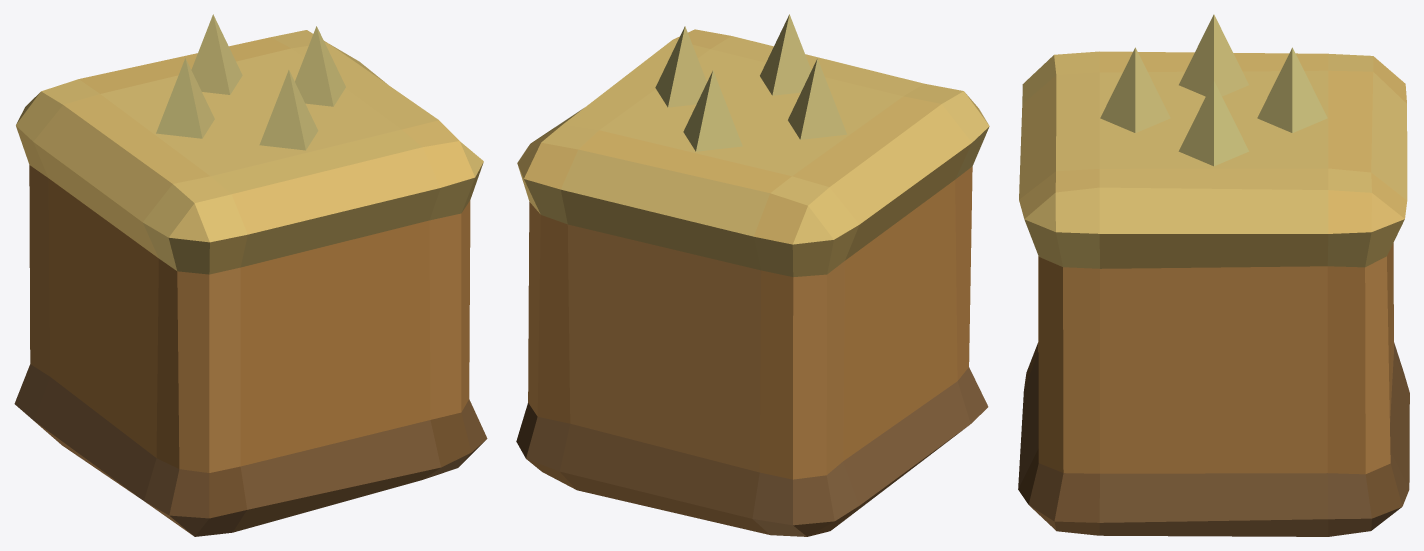
Rendered from Golem_Core.glb.
3 views of the same model, side by side, from view 1: azimuth 30°, elevation 25°; view 2: azimuth 150°, elevation 25°; view 3: azimuth 270°, elevation 25° (orthographic). The views are drawn at different scales.
Parts seen in each view (by area): view 1: GolemCore; view 2: GolemCore; view 3: GolemCore.
Boxes of the visible parts, bbox=[...] form: GolemCore: bbox=[14, 14, 487, 536]; GolemCore: bbox=[516, 14, 989, 536]; GolemCore: bbox=[1018, 14, 1409, 536].
Size of the model in its own units: 0.4991 by 0.6047 by 0.499.
